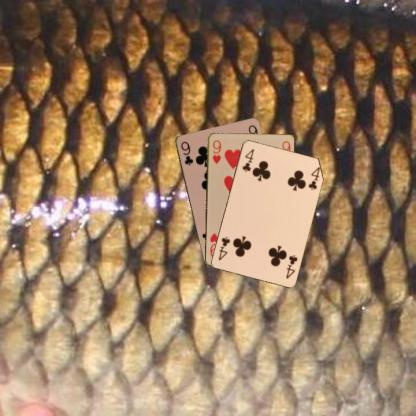4c: (239, 146, 255, 174), (283, 252, 299, 280)
9c: (178, 139, 194, 166)
9h: (210, 138, 222, 165)
